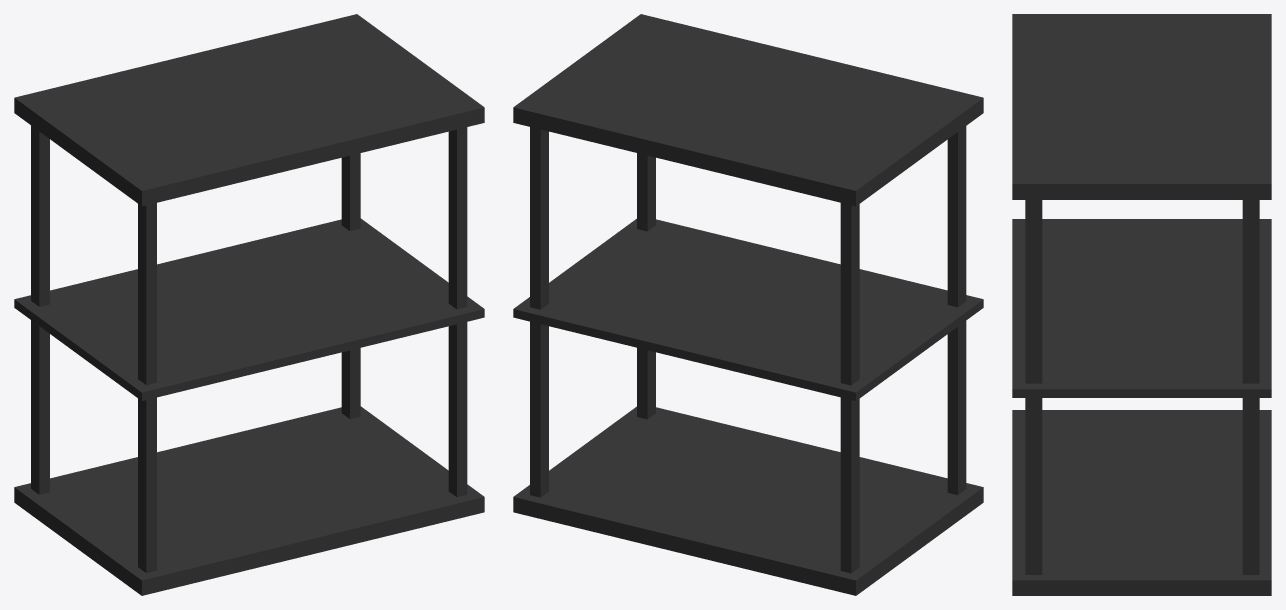
The model's file is shelf_9.glb.
3 renders of one model, left to right at view 1: azimuth 30°, elevation 25°; view 2: azimuth 150°, elevation 25°; view 3: azimuth 270°, elevation 25°, orthographic.
Parts seen in each view (by area): view 1: Expositor 1x1 A; view 2: Expositor 1x1 A; view 3: Expositor 1x1 A.
Part boxes in pixels (left/top/right/bottom): Expositor 1x1 A: left=14, top=14, right=484, bottom=595; Expositor 1x1 A: left=513, top=14, right=983, bottom=595; Expositor 1x1 A: left=1012, top=14, right=1271, bottom=595.
Bounding box in the file's own units: 0.7374 × 0.8324 × 0.4754.
Materials: 1 (1 with a texture image).
